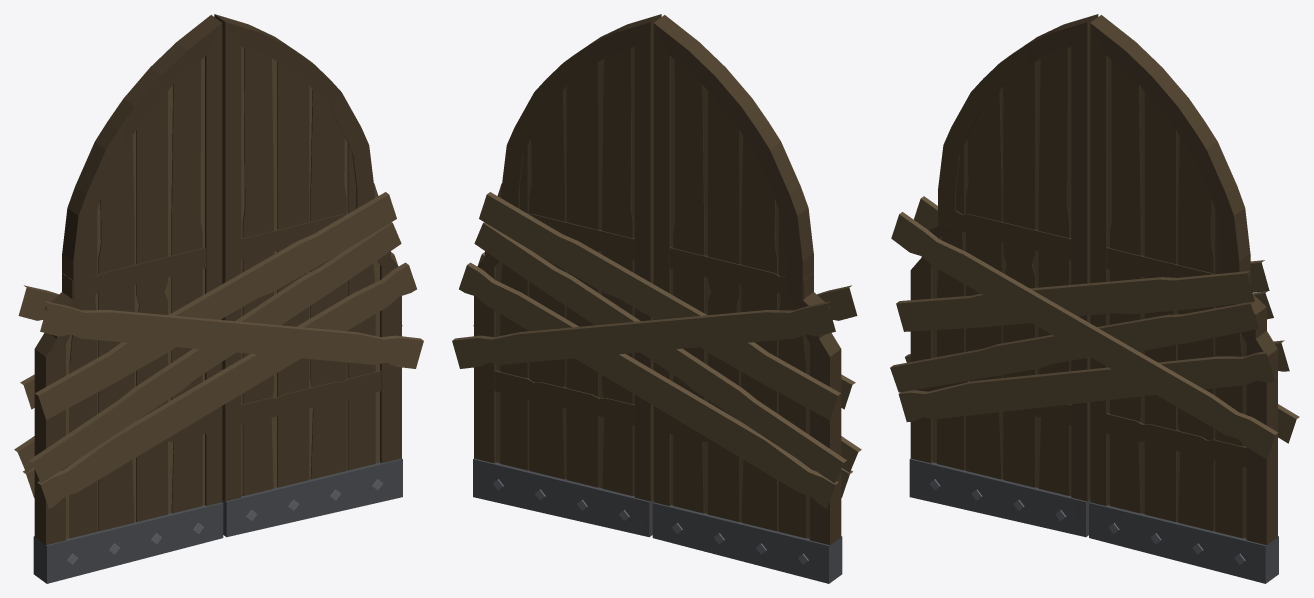
The model's file is Doors_GothicArch_Covered.glb.
3 views of the same model, side by side, from view 1: azimuth 30°, elevation 25°; view 2: azimuth 150°, elevation 25°; view 3: azimuth 330°, elevation 25° (orthographic).
Visible parts, largest first — view 1: DarkWood, Wood, Metal, Metal_Light; view 2: DarkWood, Wood, Metal, Metal_Light; view 3: DarkWood, Wood, Metal, Metal_Light.
Boxes of the visible parts, <box> form: DarkWood: <box>34,14,401,545</box>; Wood: <box>14,47,423,538</box>; Metal: <box>33,458,402,583</box>; Metal_Light: <box>67,479,382,564</box>; DarkWood: <box>474,14,841,545</box>; Wood: <box>452,47,861,538</box>; Metal: <box>473,458,842,583</box>; Metal_Light: <box>493,479,808,564</box>; DarkWood: <box>910,14,1277,545</box>; Wood: <box>890,47,1299,538</box>; Metal: <box>909,458,1278,583</box>; Metal_Light: <box>929,479,1245,564</box>.
Size of the model in its own units: 2.52 by 3.21 by 0.2789.
